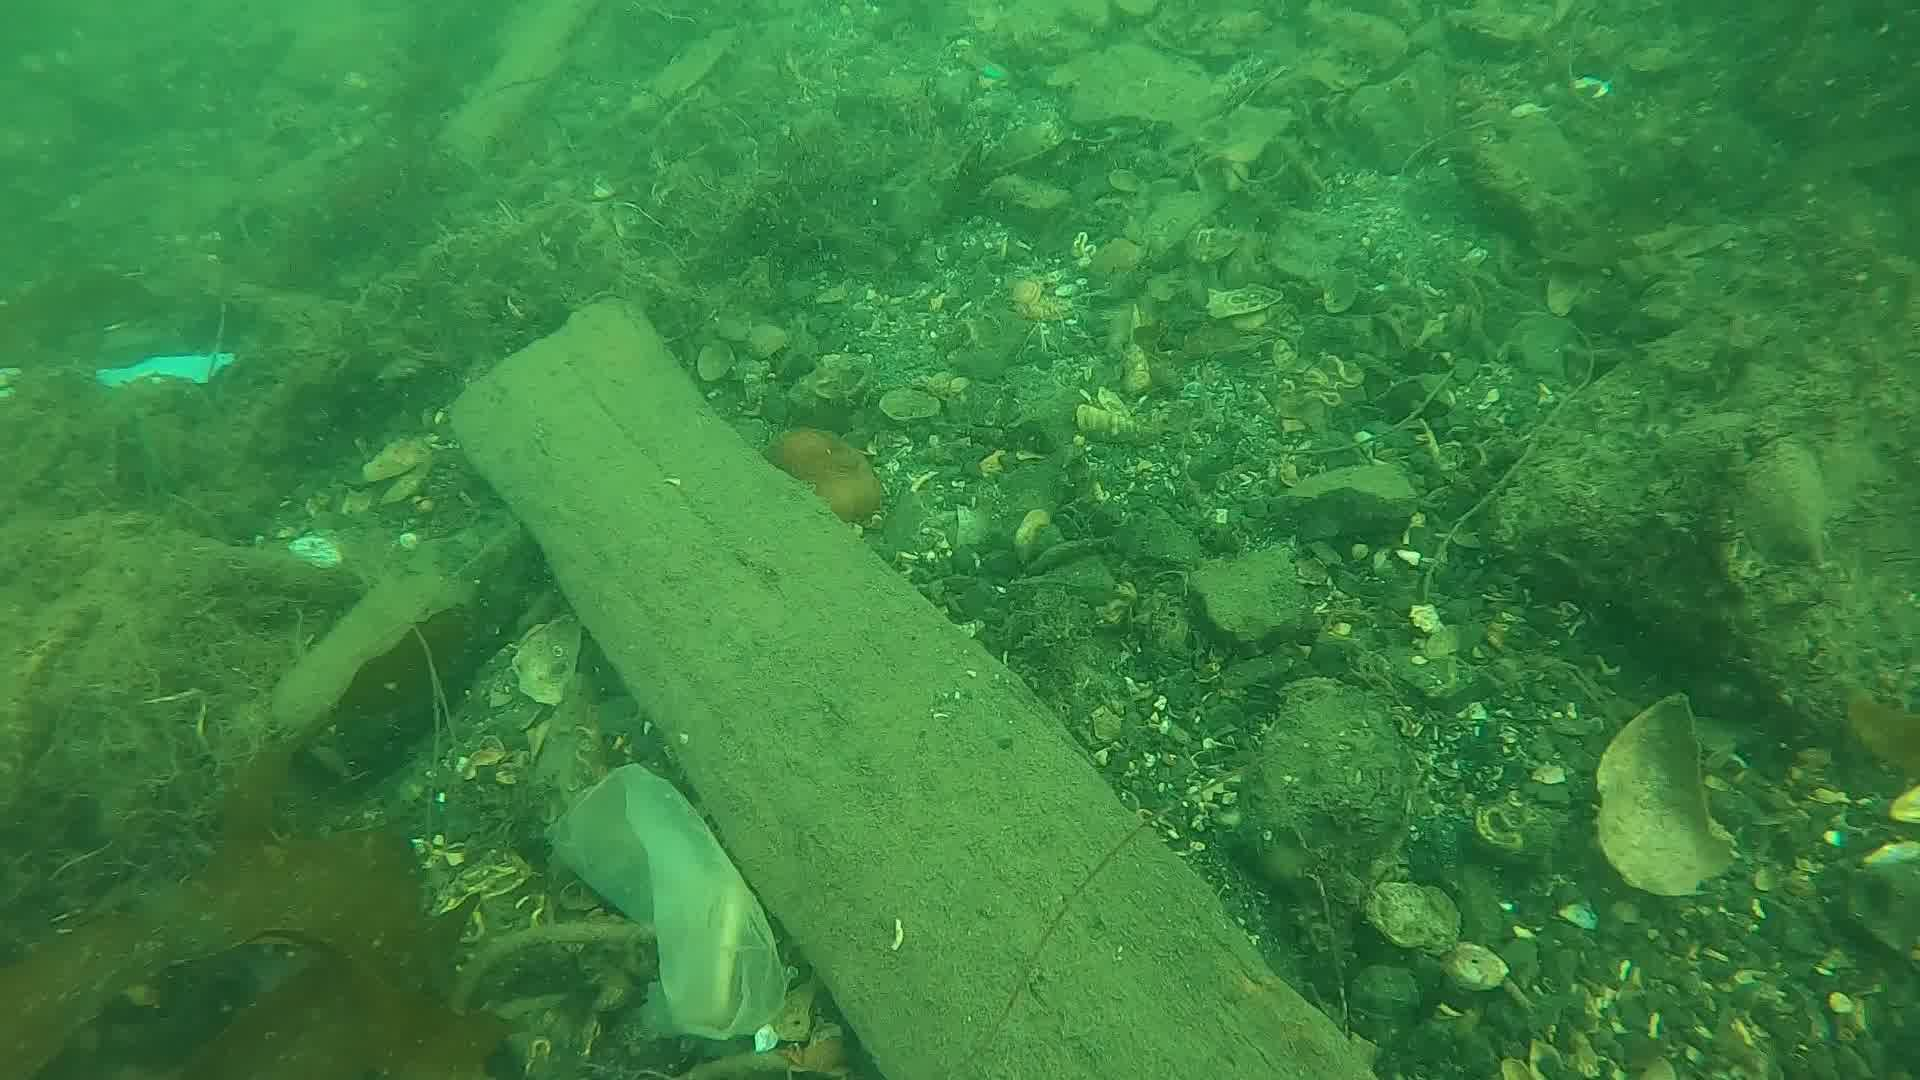wood: (444, 299, 1382, 1080)
